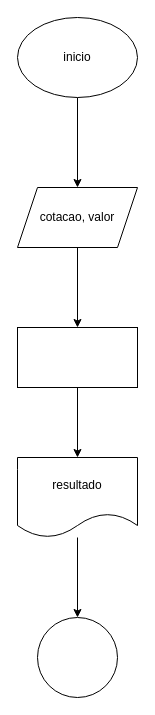
This 155x715 diagram has some shape labels left out. Each missing label, with the centre of its shape:
fim: (x=77, y=657)
resultado = valor / cotacao: (x=77, y=357)
